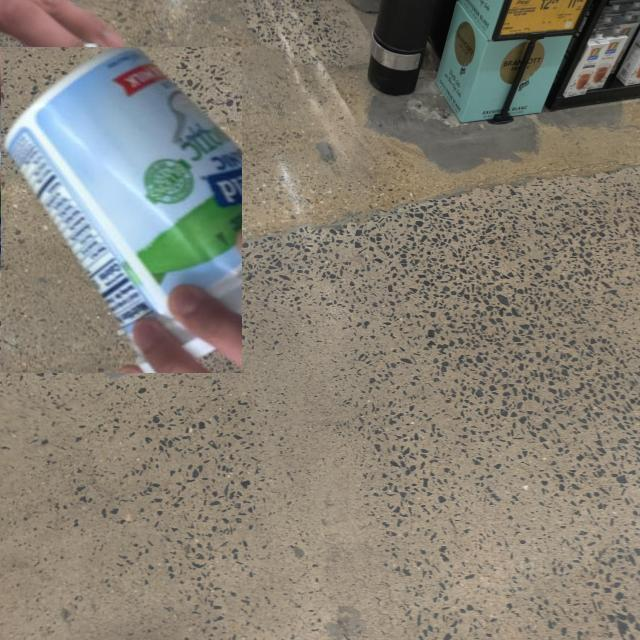Yogurt: (0, 47, 242, 373)
